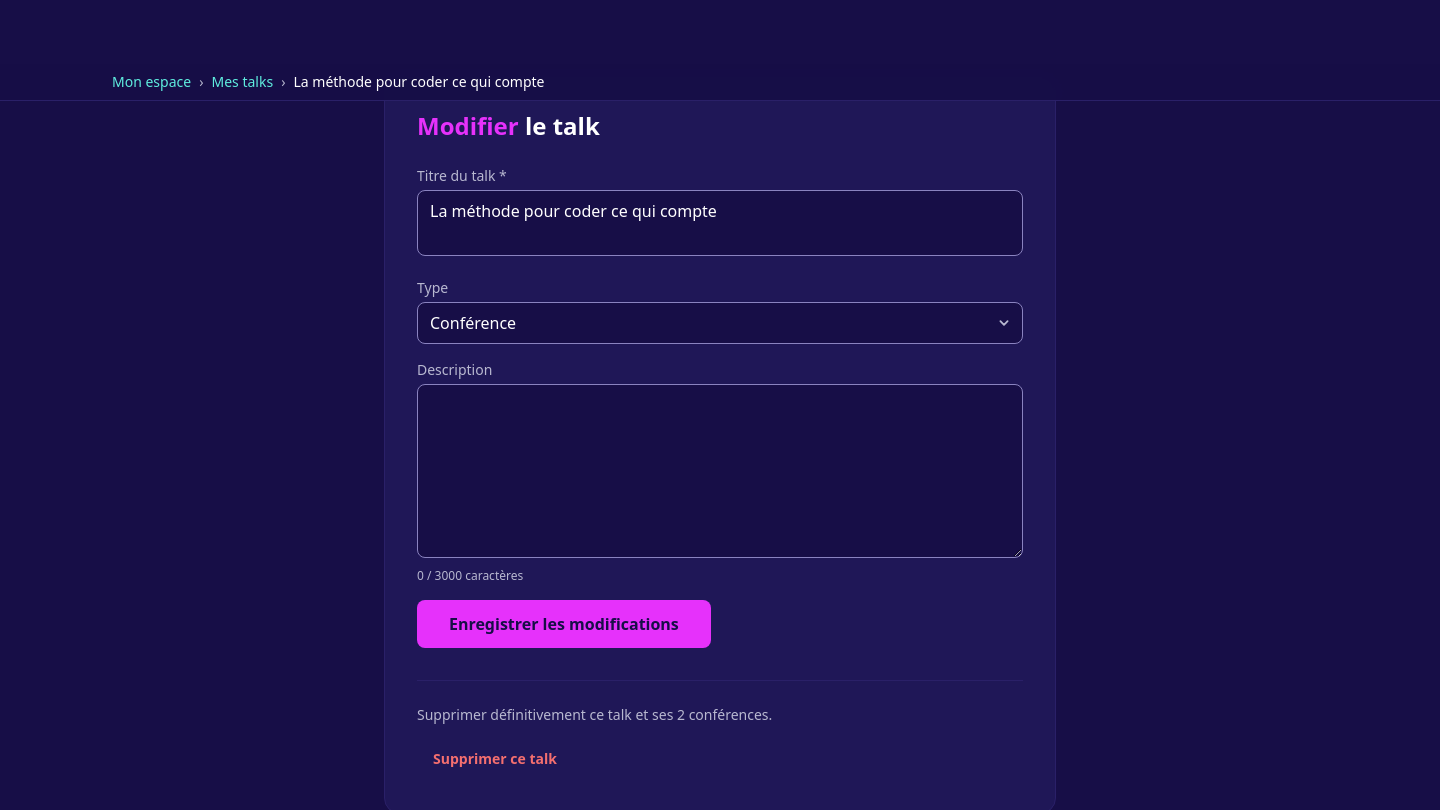
Test case: Modifier un talk — zone de suppression › garde-fou : l'emphase est inversée, « Annuler » l'emporte visuellement
The width and height of the screenshot is (1440, 810).
What coordinates should you click on to do the following:
click the button "Supprimer ce talk"
I would click on:
 (495, 759)
Its box is [417,737,573,781].
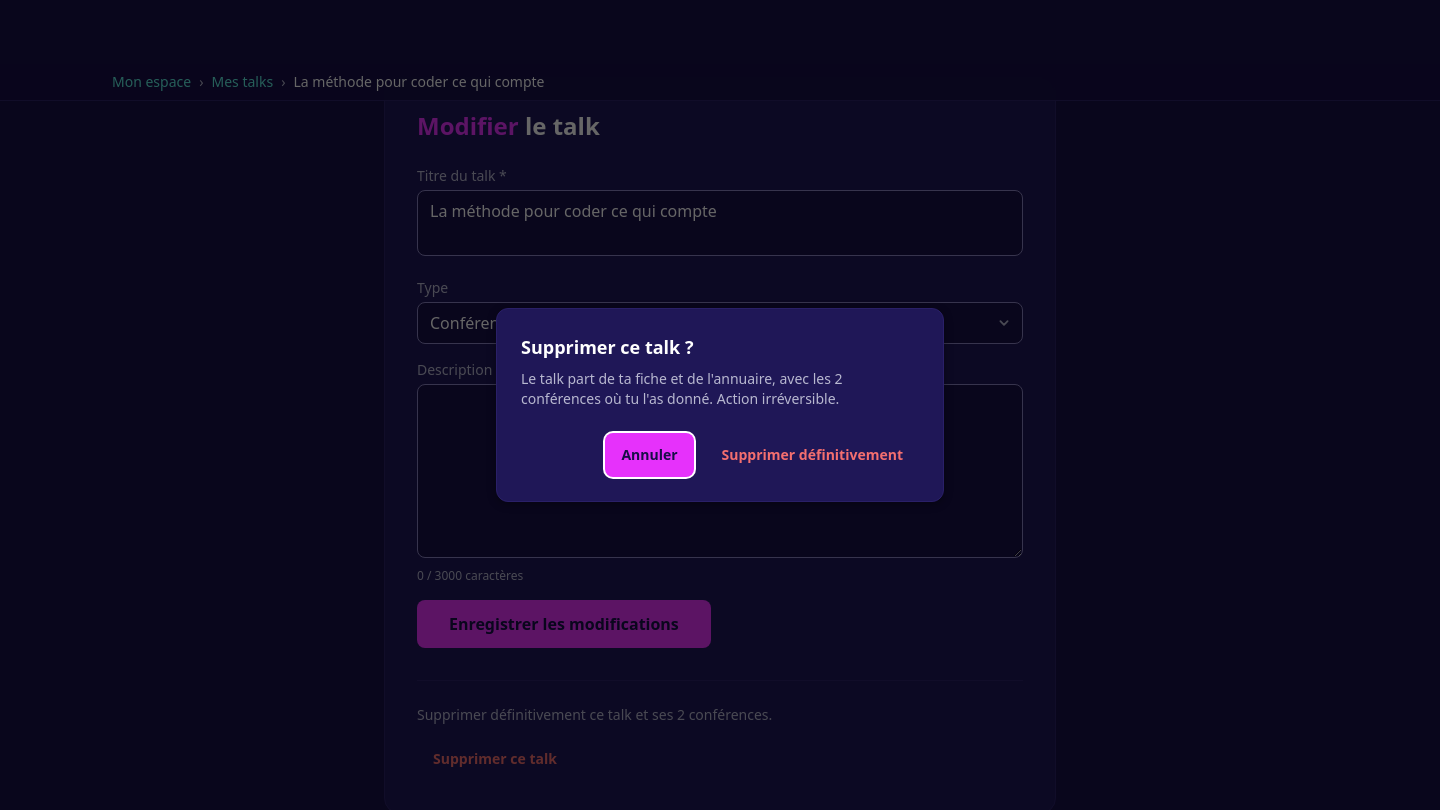
Check: the dialog is shown, box [496,308,944,502]
